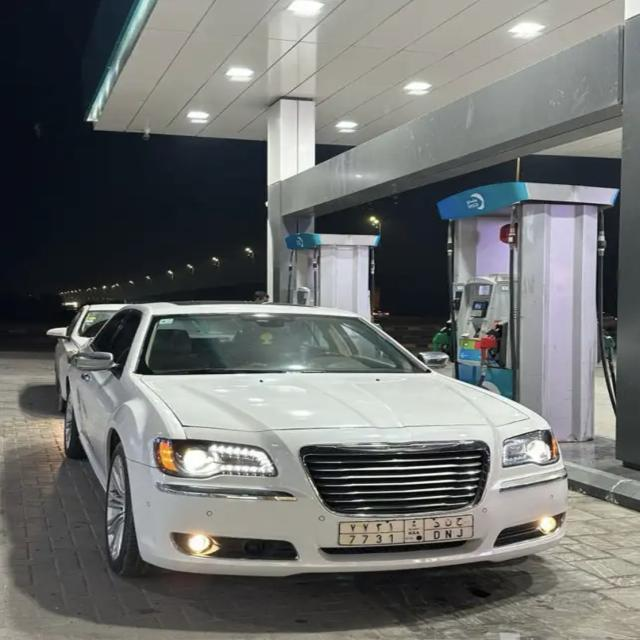license_plate: (338, 512, 474, 547)
